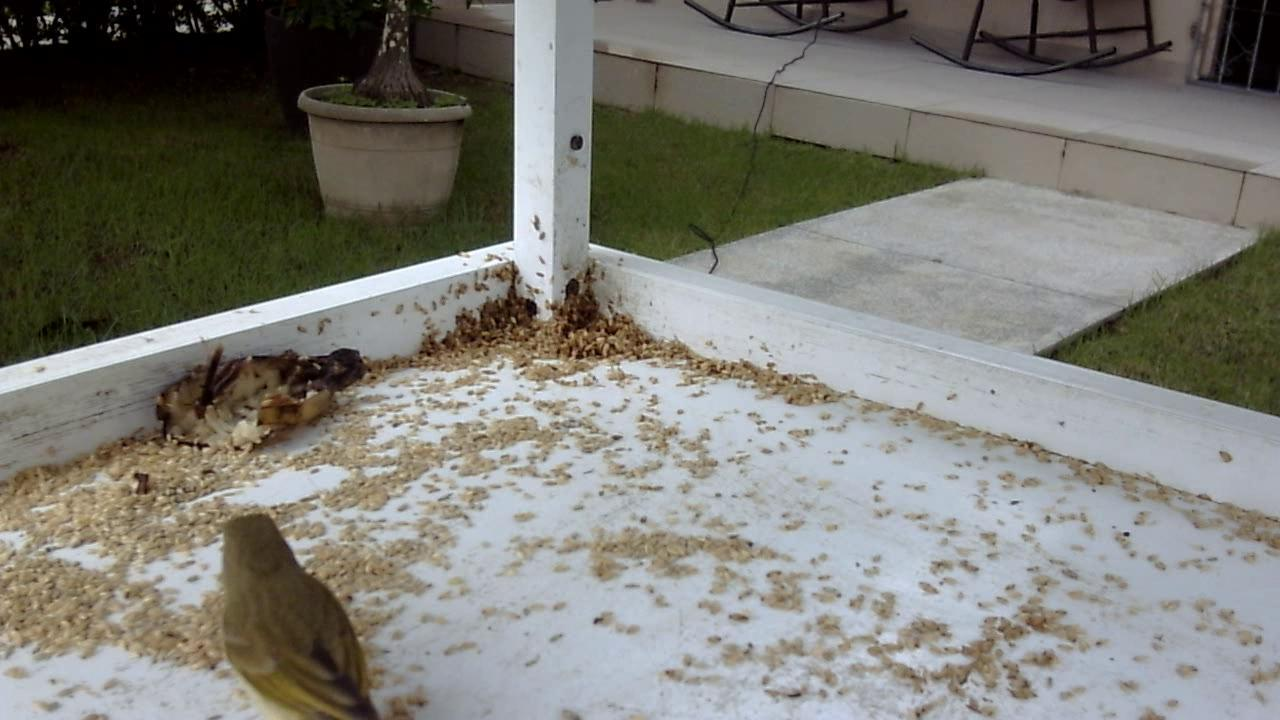canario_do_amazonas: (201, 505, 386, 720)
